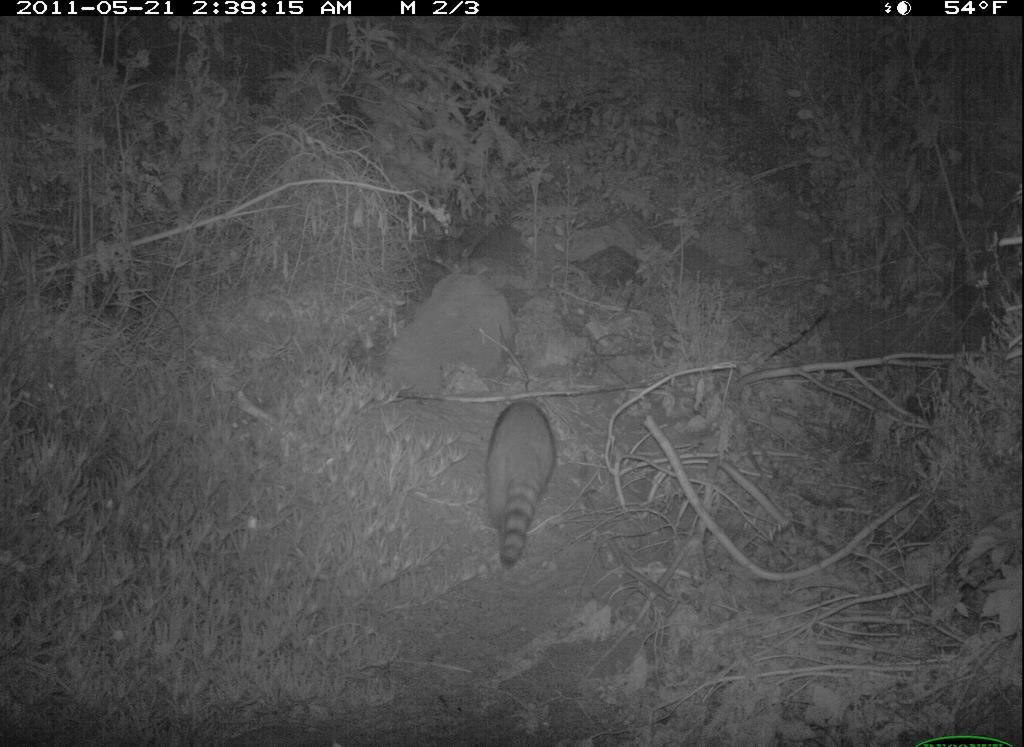raccoon: (464, 376, 570, 582)
